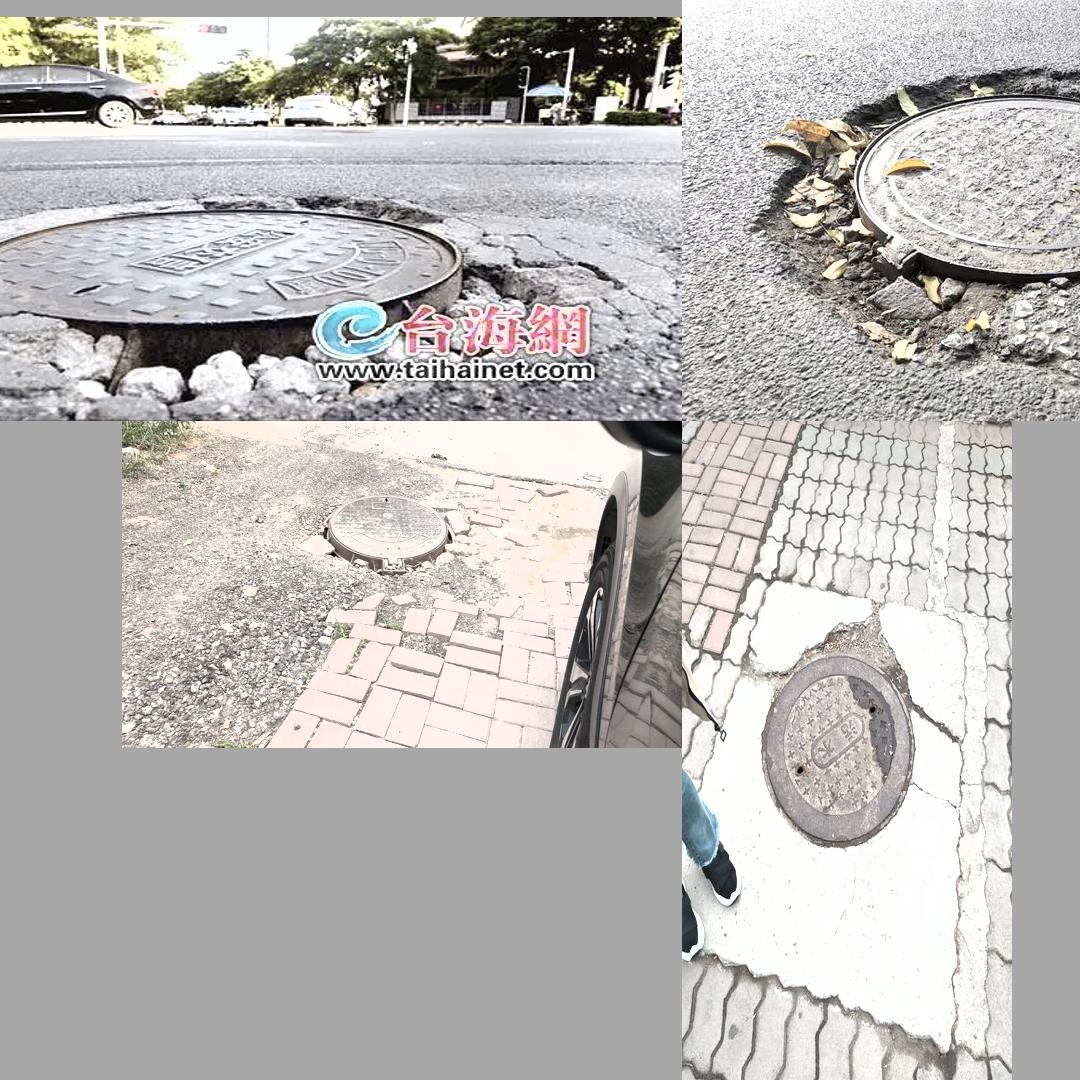circle: (0, 193, 640, 398), (765, 66, 1080, 370), (732, 607, 953, 879), (286, 472, 498, 602)
